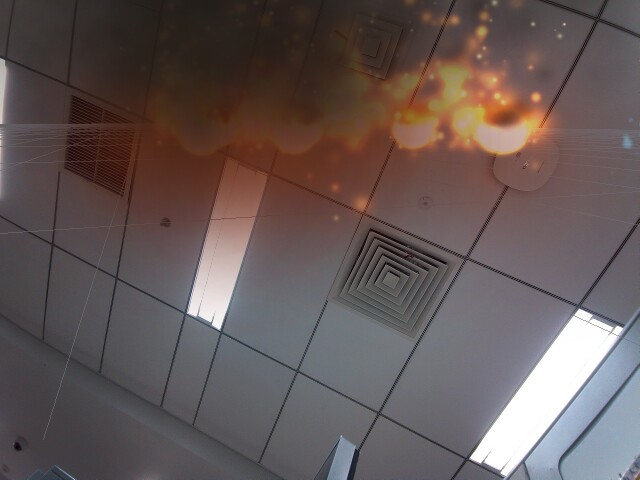fire: (478, 104, 530, 157), (175, 104, 226, 158), (274, 112, 324, 158), (394, 108, 434, 152)
